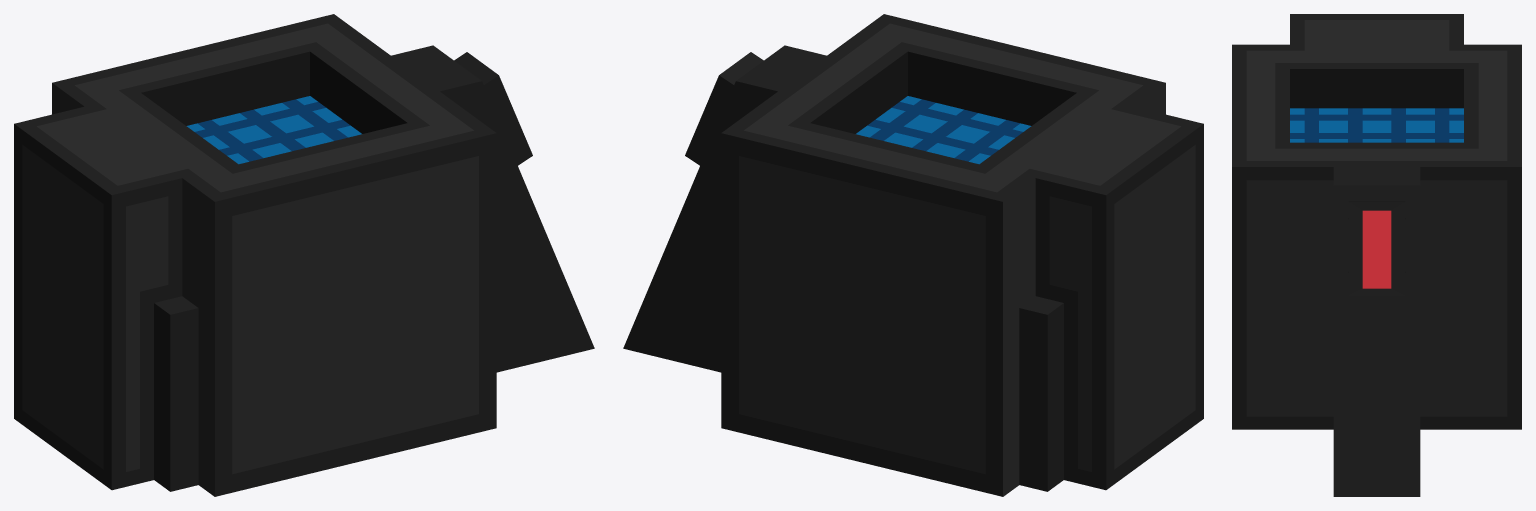
Rendered from Projector.fbx.
3 renders of one model, left to right at view 1: azimuth 30°, elevation 25°; view 2: azimuth 150°, elevation 25°; view 3: azimuth 270°, elevation 25°, orthographic. The views are drawn at different scales.
Parts seen in each view (by area): view 1: Cube.001; view 2: Cube.001; view 3: Cube.001.
Part boxes in pixels (bbox=[...]): Cube.001: bbox=[14, 14, 594, 496]; Cube.001: bbox=[623, 14, 1203, 496]; Cube.001: bbox=[1232, 14, 1521, 496].
Size of the model in its own units: 180 by 100 by 100.
